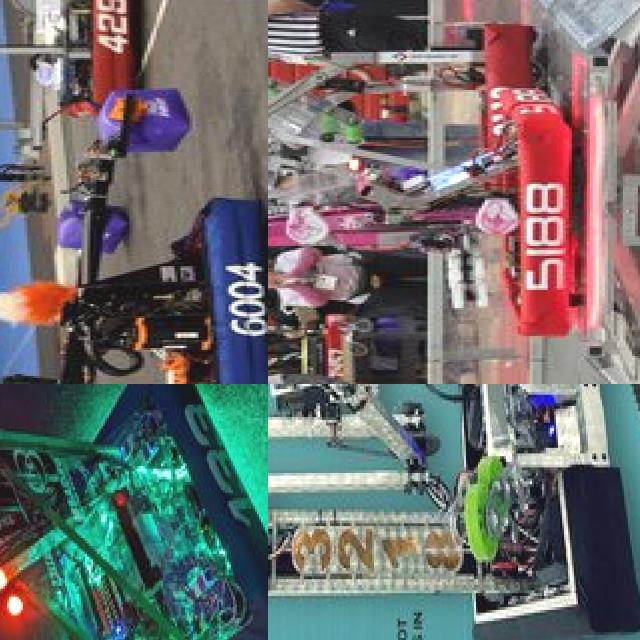FRC-Robots: (268, 384, 636, 640), (268, 84, 581, 362), (0, 84, 268, 384), (0, 384, 268, 640), (268, 0, 552, 203), (0, 0, 142, 233)
